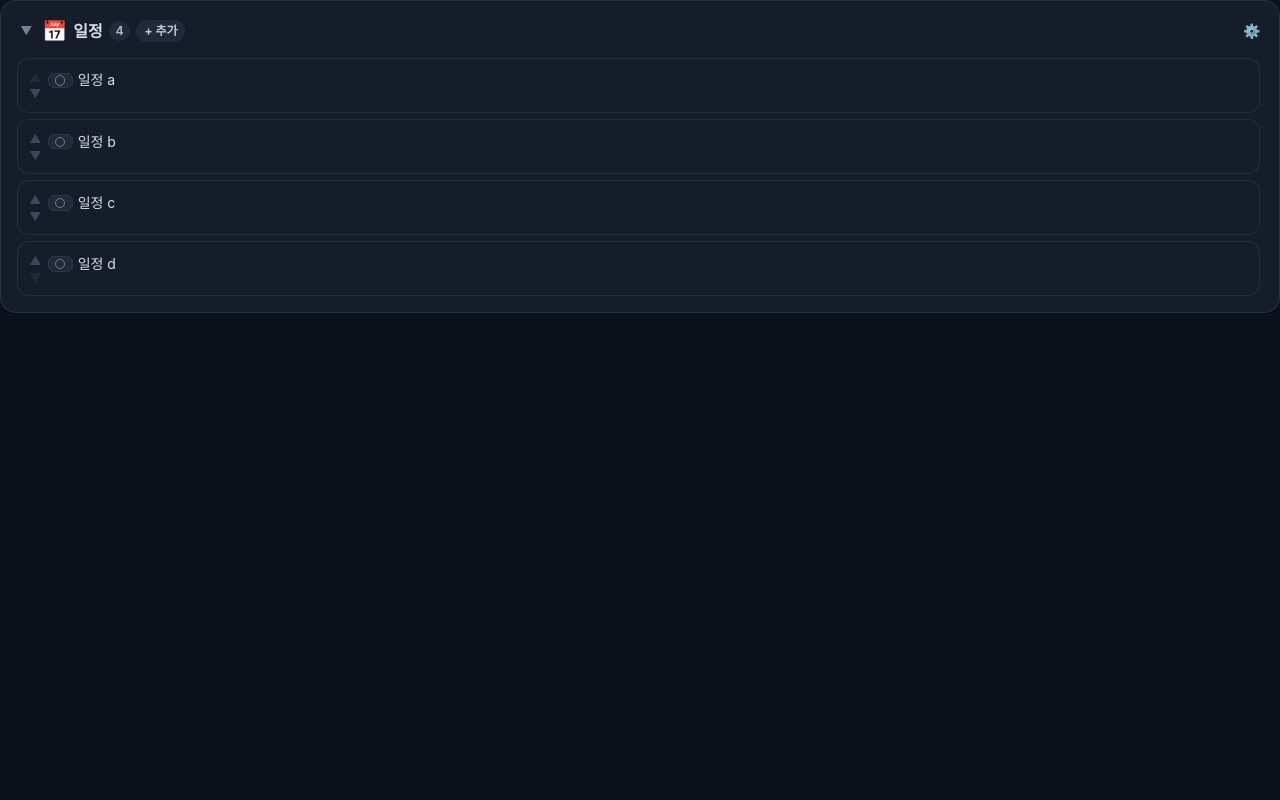
여러 개 고르기 › 완료 = 고른 것 한 묶음 + 안내의 되돌리기, 끝나면 고르기도 끝
The width and height of the screenshot is (1280, 800).
What coordinates should you click on to do the following:
click the element showing "일정 a"
I would click on:
 (638, 85)
Its box is [17,58,1260,113].
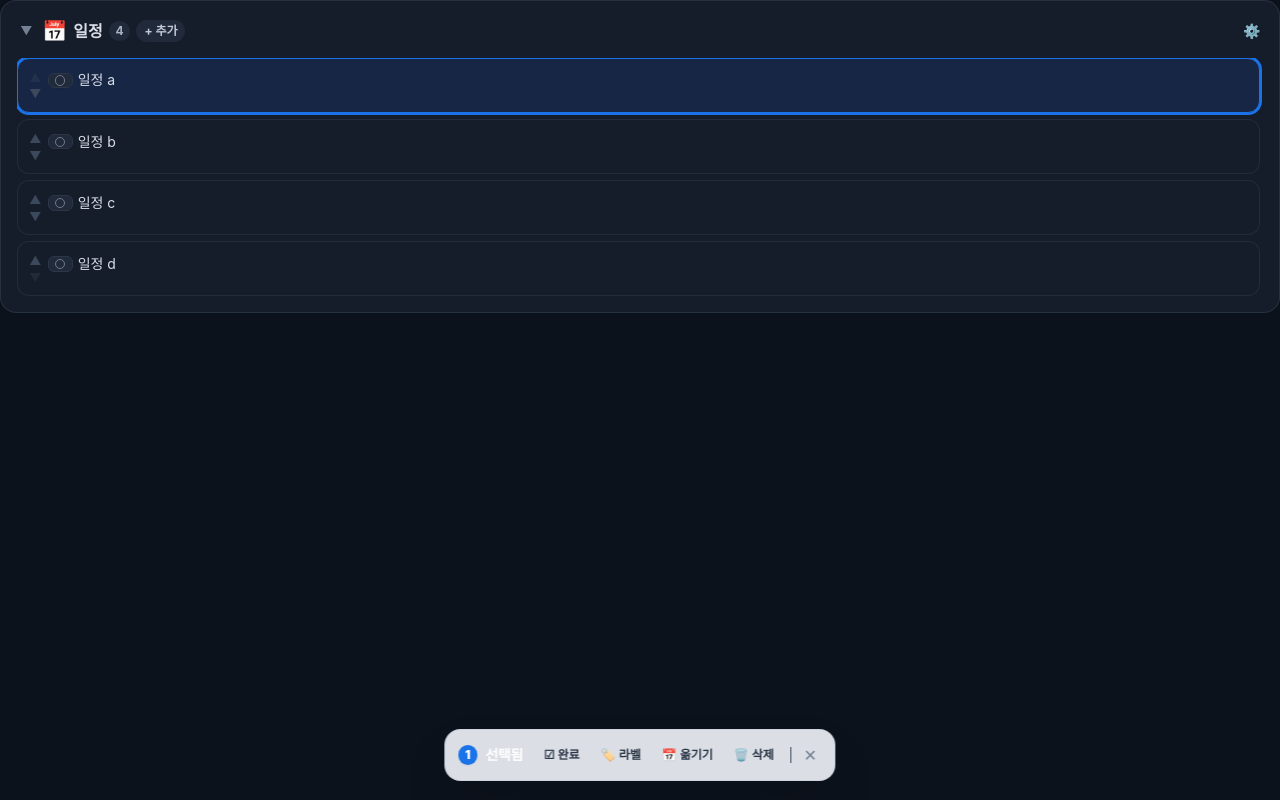
What coordinates should you click on to do the following:
click the element showing "일정 c"
I would click on:
 (638, 208)
Its box is [17,180,1260,235].
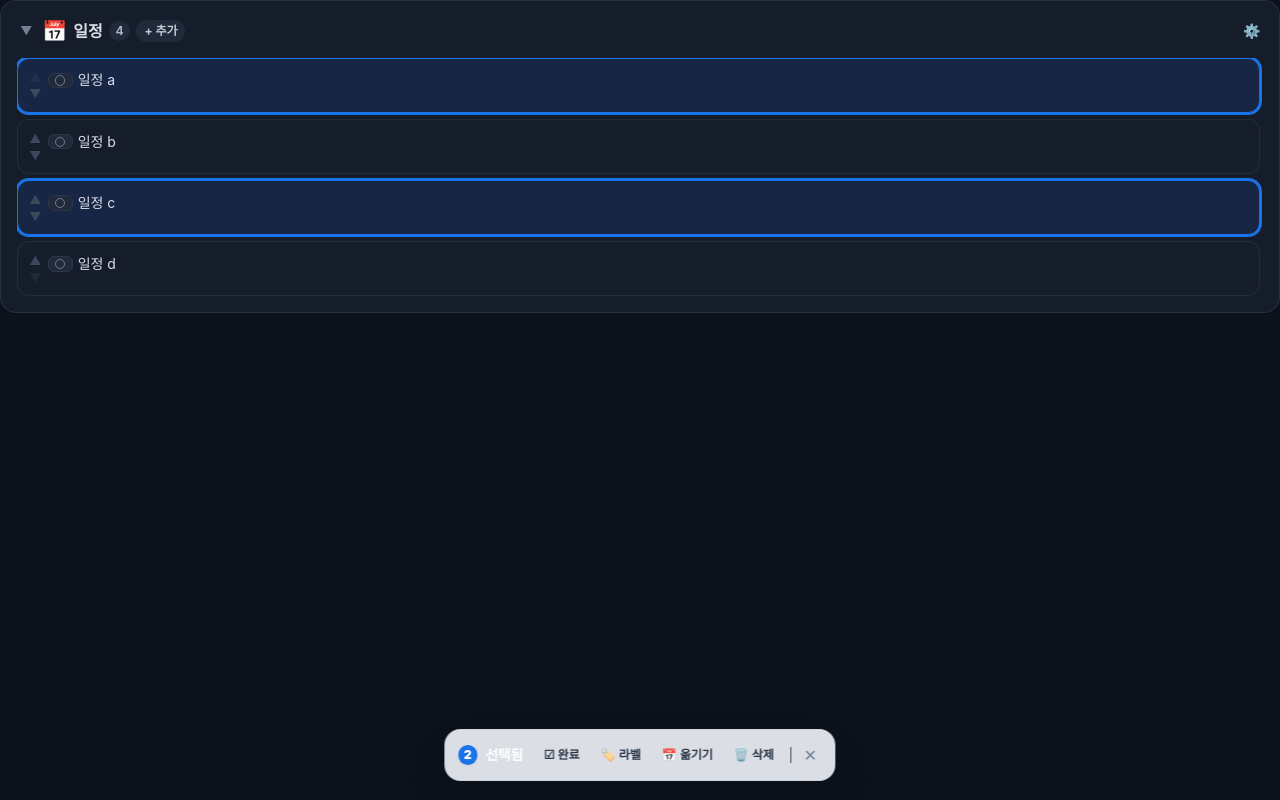
What coordinates should you click on to do the following:
click the button "☑ 완료"
I would click on:
 (562, 755)
Its box is [536,742,588,768].
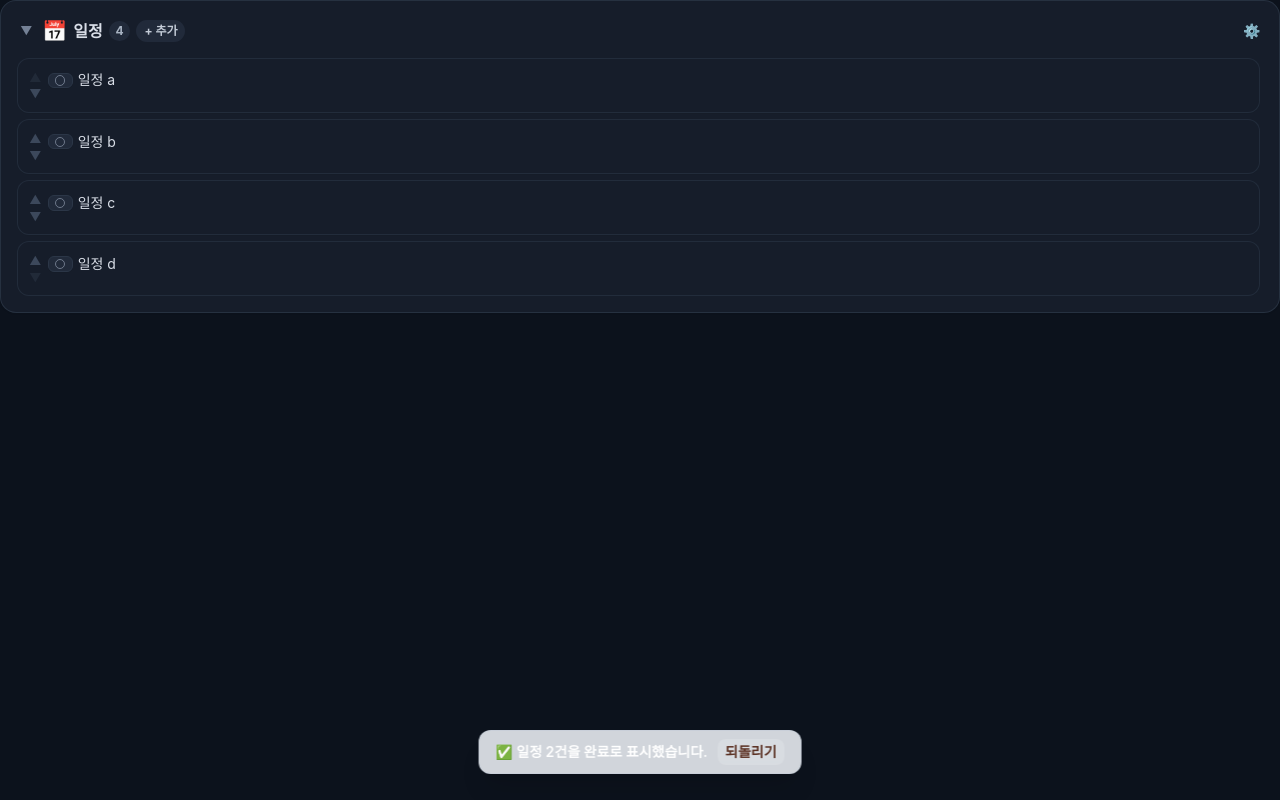
Check: the message "✅ 일정 2건을 완료로 표시했습니다. 되돌리기" is shown, box [478,730,802,774]
